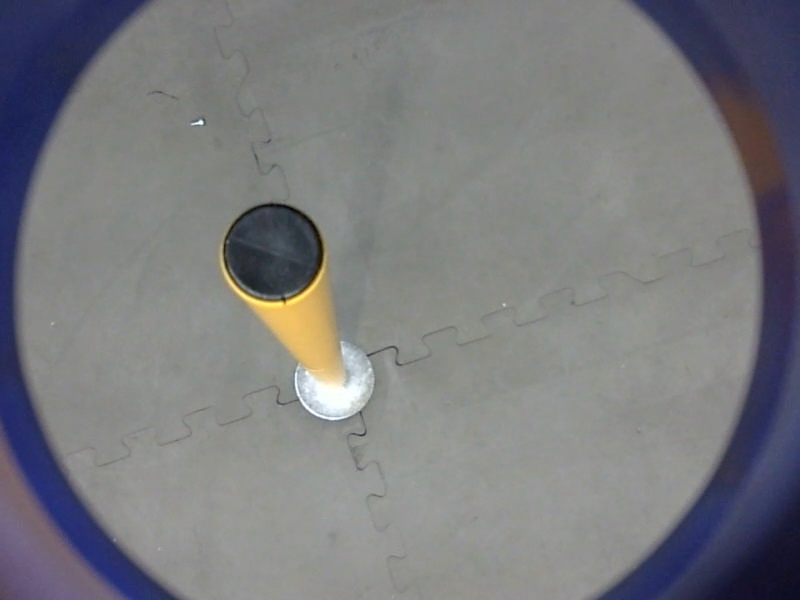tip: (212, 196, 333, 311)
